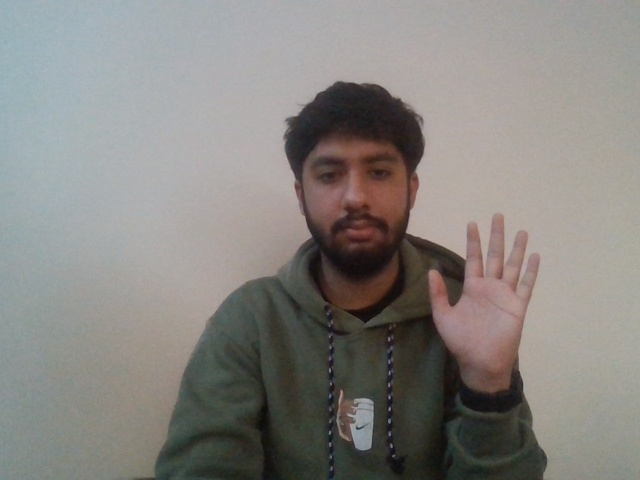Hello: (413, 210, 552, 375)
